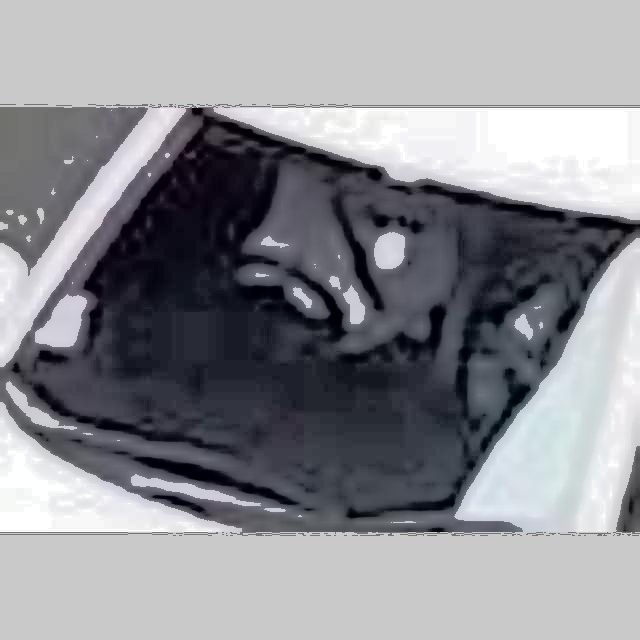pakai: (253, 184, 431, 342)
